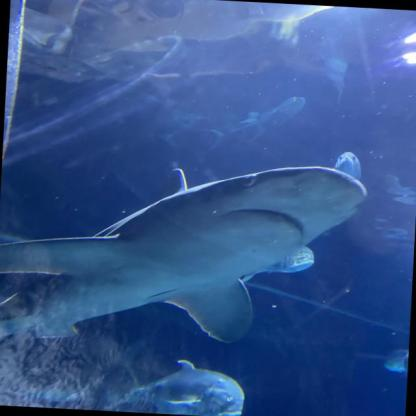fish: (121, 358, 246, 416), (382, 346, 408, 383), (335, 150, 361, 183)
shark: (0, 150, 369, 360)
